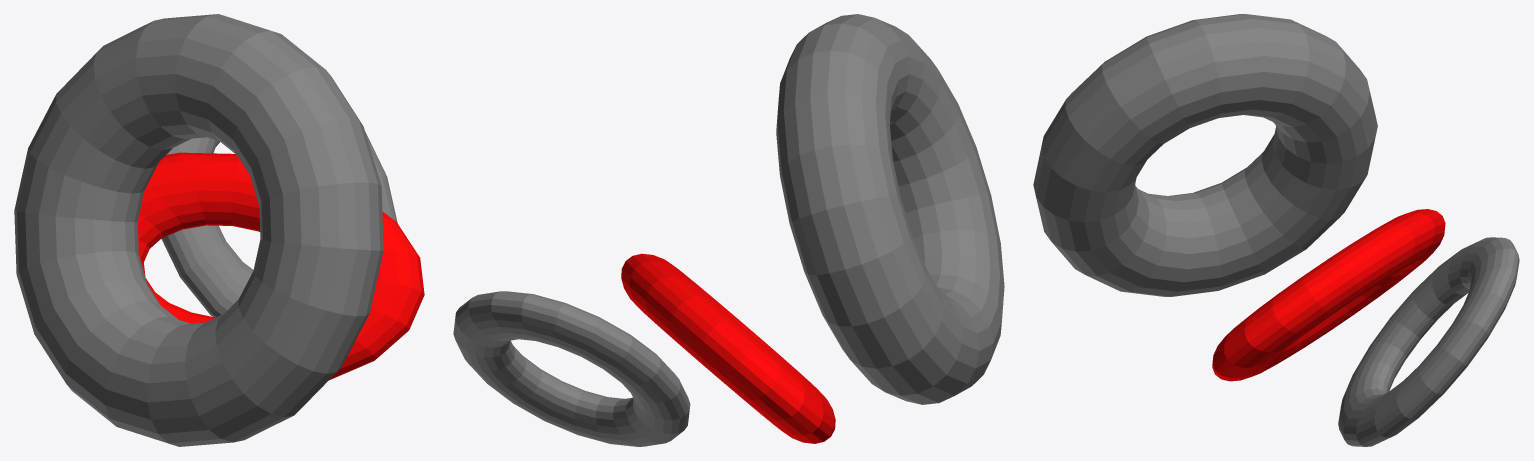
File: effect_phong_diffuse_color.dae
3 views of the same model, side by side, from view 1: azimuth 30°, elevation 25°; view 2: azimuth 150°, elevation 25°; view 3: azimuth 270°, elevation 25° (orthographic). The views are drawn at different scales.
Visible parts, largest first — view 1: pTorus3, pTorus1, pTorus2; view 2: pTorus3, pTorus2, pTorus1; view 3: pTorus3, pTorus2, pTorus1.
Boxes of the visible parts, bbox=[...] form: pTorus3: bbox=[14, 14, 383, 446]; pTorus1: bbox=[137, 152, 424, 380]; pTorus2: bbox=[161, 132, 397, 317]; pTorus3: bbox=[776, 14, 1004, 404]; pTorus2: bbox=[453, 291, 690, 446]; pTorus1: bbox=[621, 253, 835, 443]; pTorus3: bbox=[1033, 14, 1377, 296]; pTorus2: bbox=[1338, 237, 1519, 446]; pTorus1: bbox=[1212, 209, 1445, 381].
Size of the model in its own units: 308 by 283 by 357.
